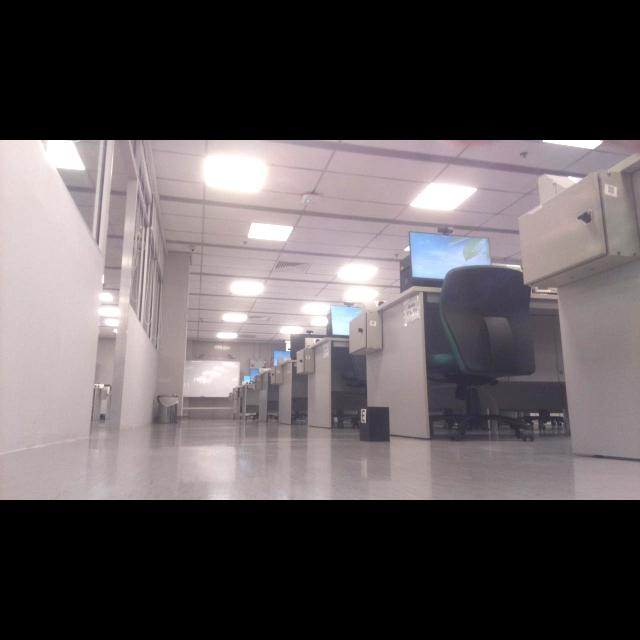E: (362, 410, 365, 422)
